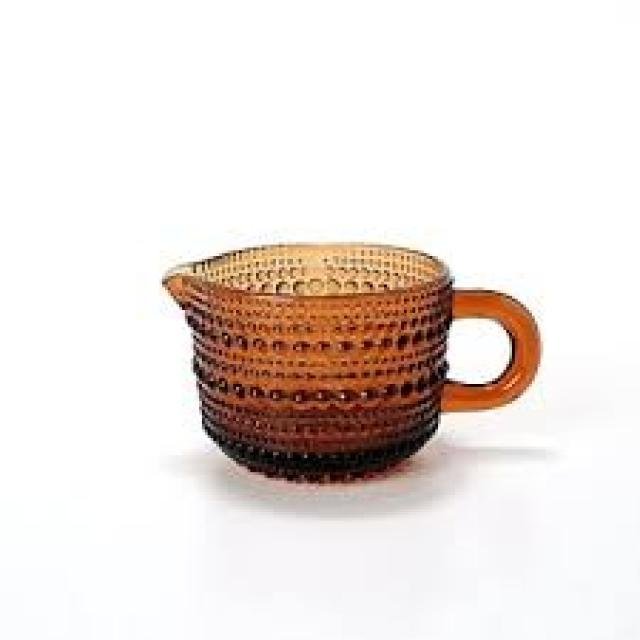glass: (162, 245, 538, 481)
